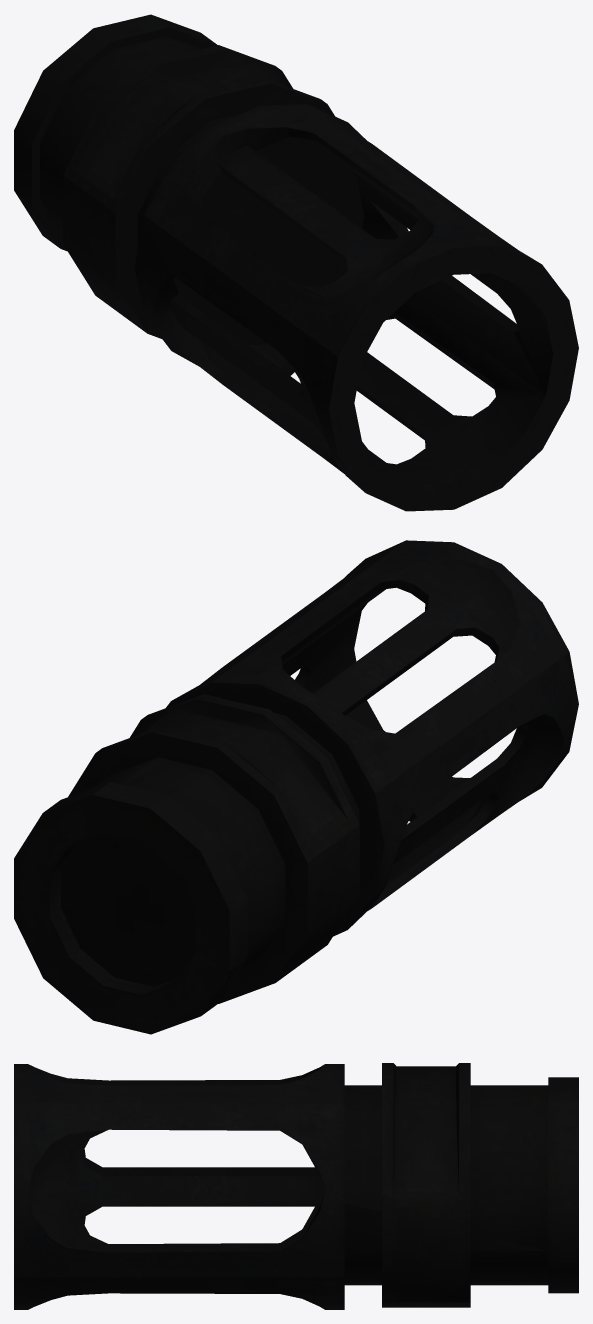
Rendered from FLASHHIDER.FBX.
3 renders of one model, top to bottom at view 1: azimuth 30°, elevation 25°; view 2: azimuth 150°, elevation 25°; view 3: azimuth 270°, elevation 25°, orthographic. The views are drawn at different scales.
Visible parts, largest first — view 1: Mesh_0016; view 2: Mesh_0016; view 3: Mesh_0016.
Part boxes in pixels (x1=…): Mesh_0016: x1=14, y1=14, x2=578, y2=511; Mesh_0016: x1=14, y1=540, x2=578, y2=1034; Mesh_0016: x1=14, y1=1063, x2=578, y2=1309.
Bounding box in the file's own units: 3.49 × 3.49 × 8.01.
